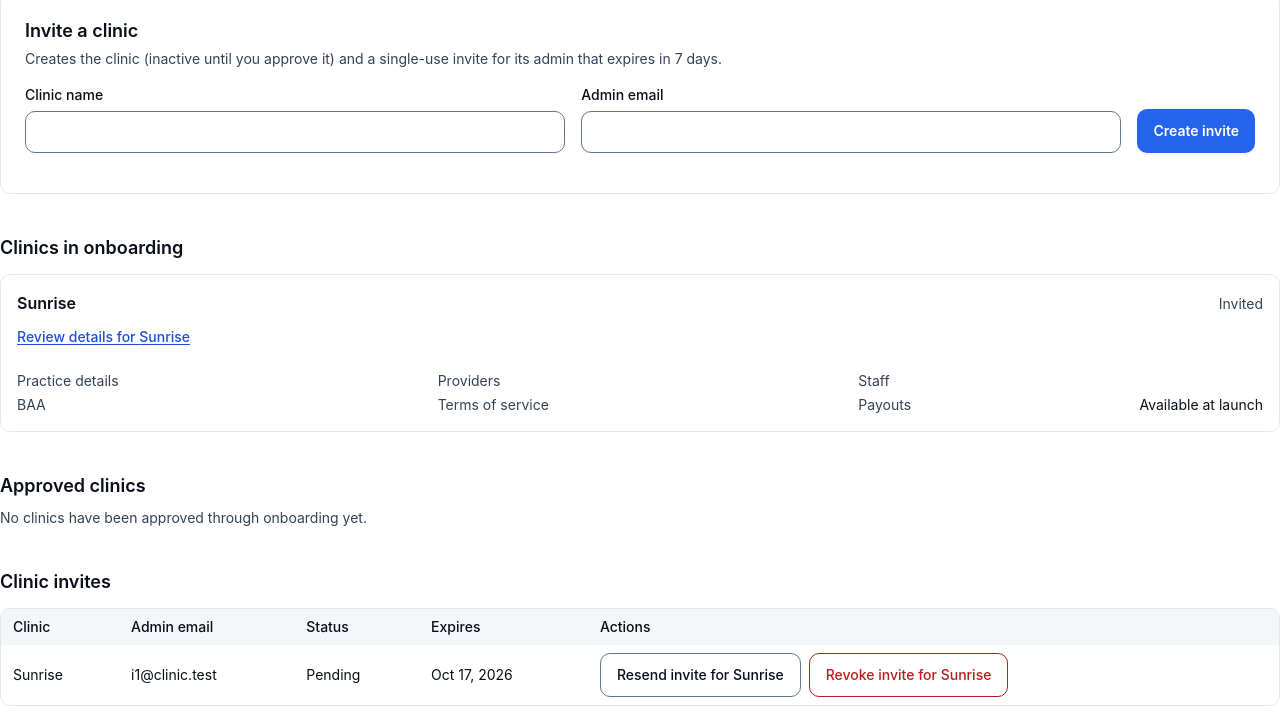
Test case: revoke updates the invite row at once
This screenshot has width=1280, height=712.
Click the button "Revoke invite for Sunrise": [909, 675] box [809, 653, 1008, 697]
(page scrolled)
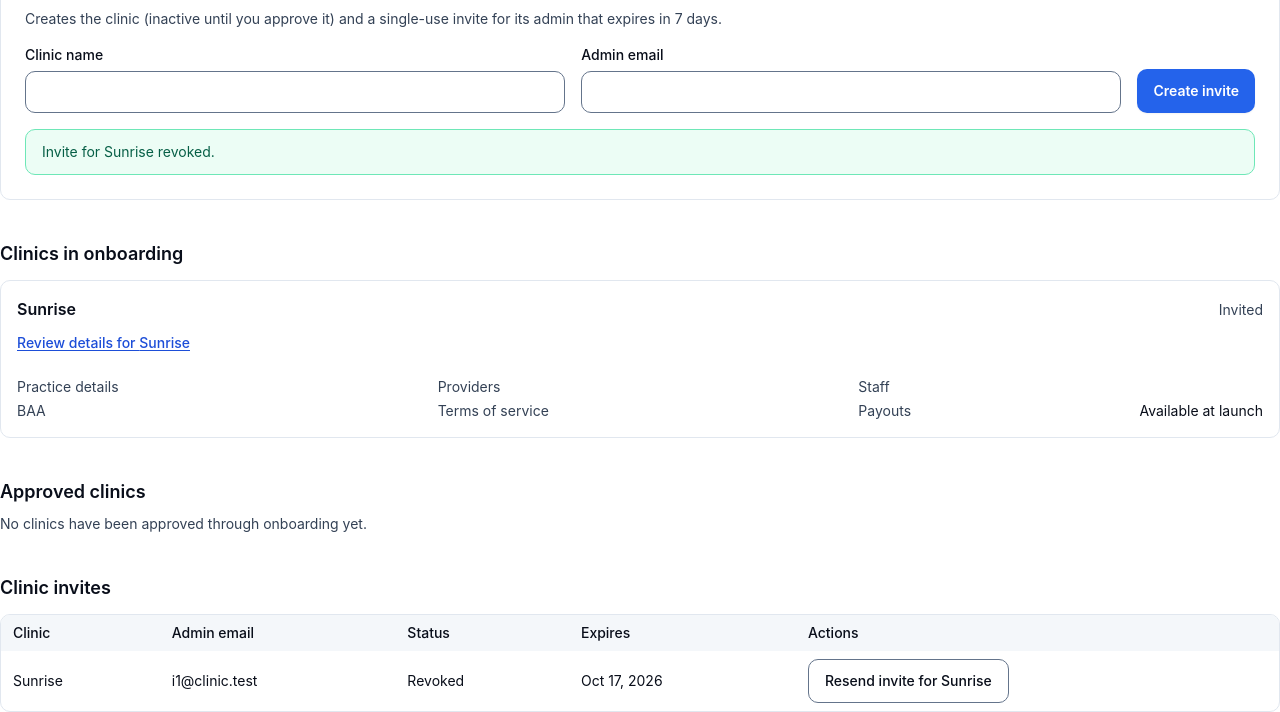
Result: the text "Revoked" is shown at [395, 651, 569, 711]
